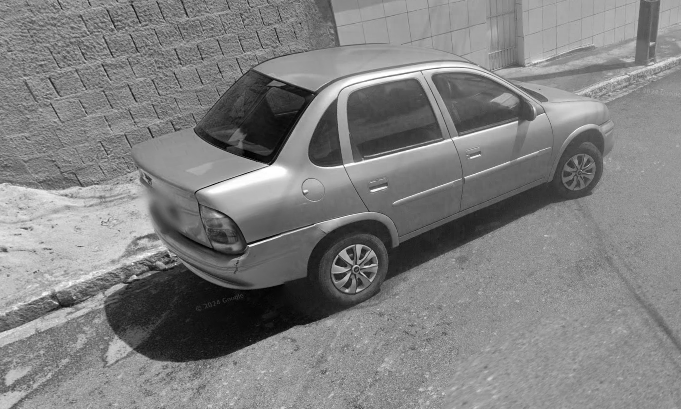car: (127, 41, 620, 311)
